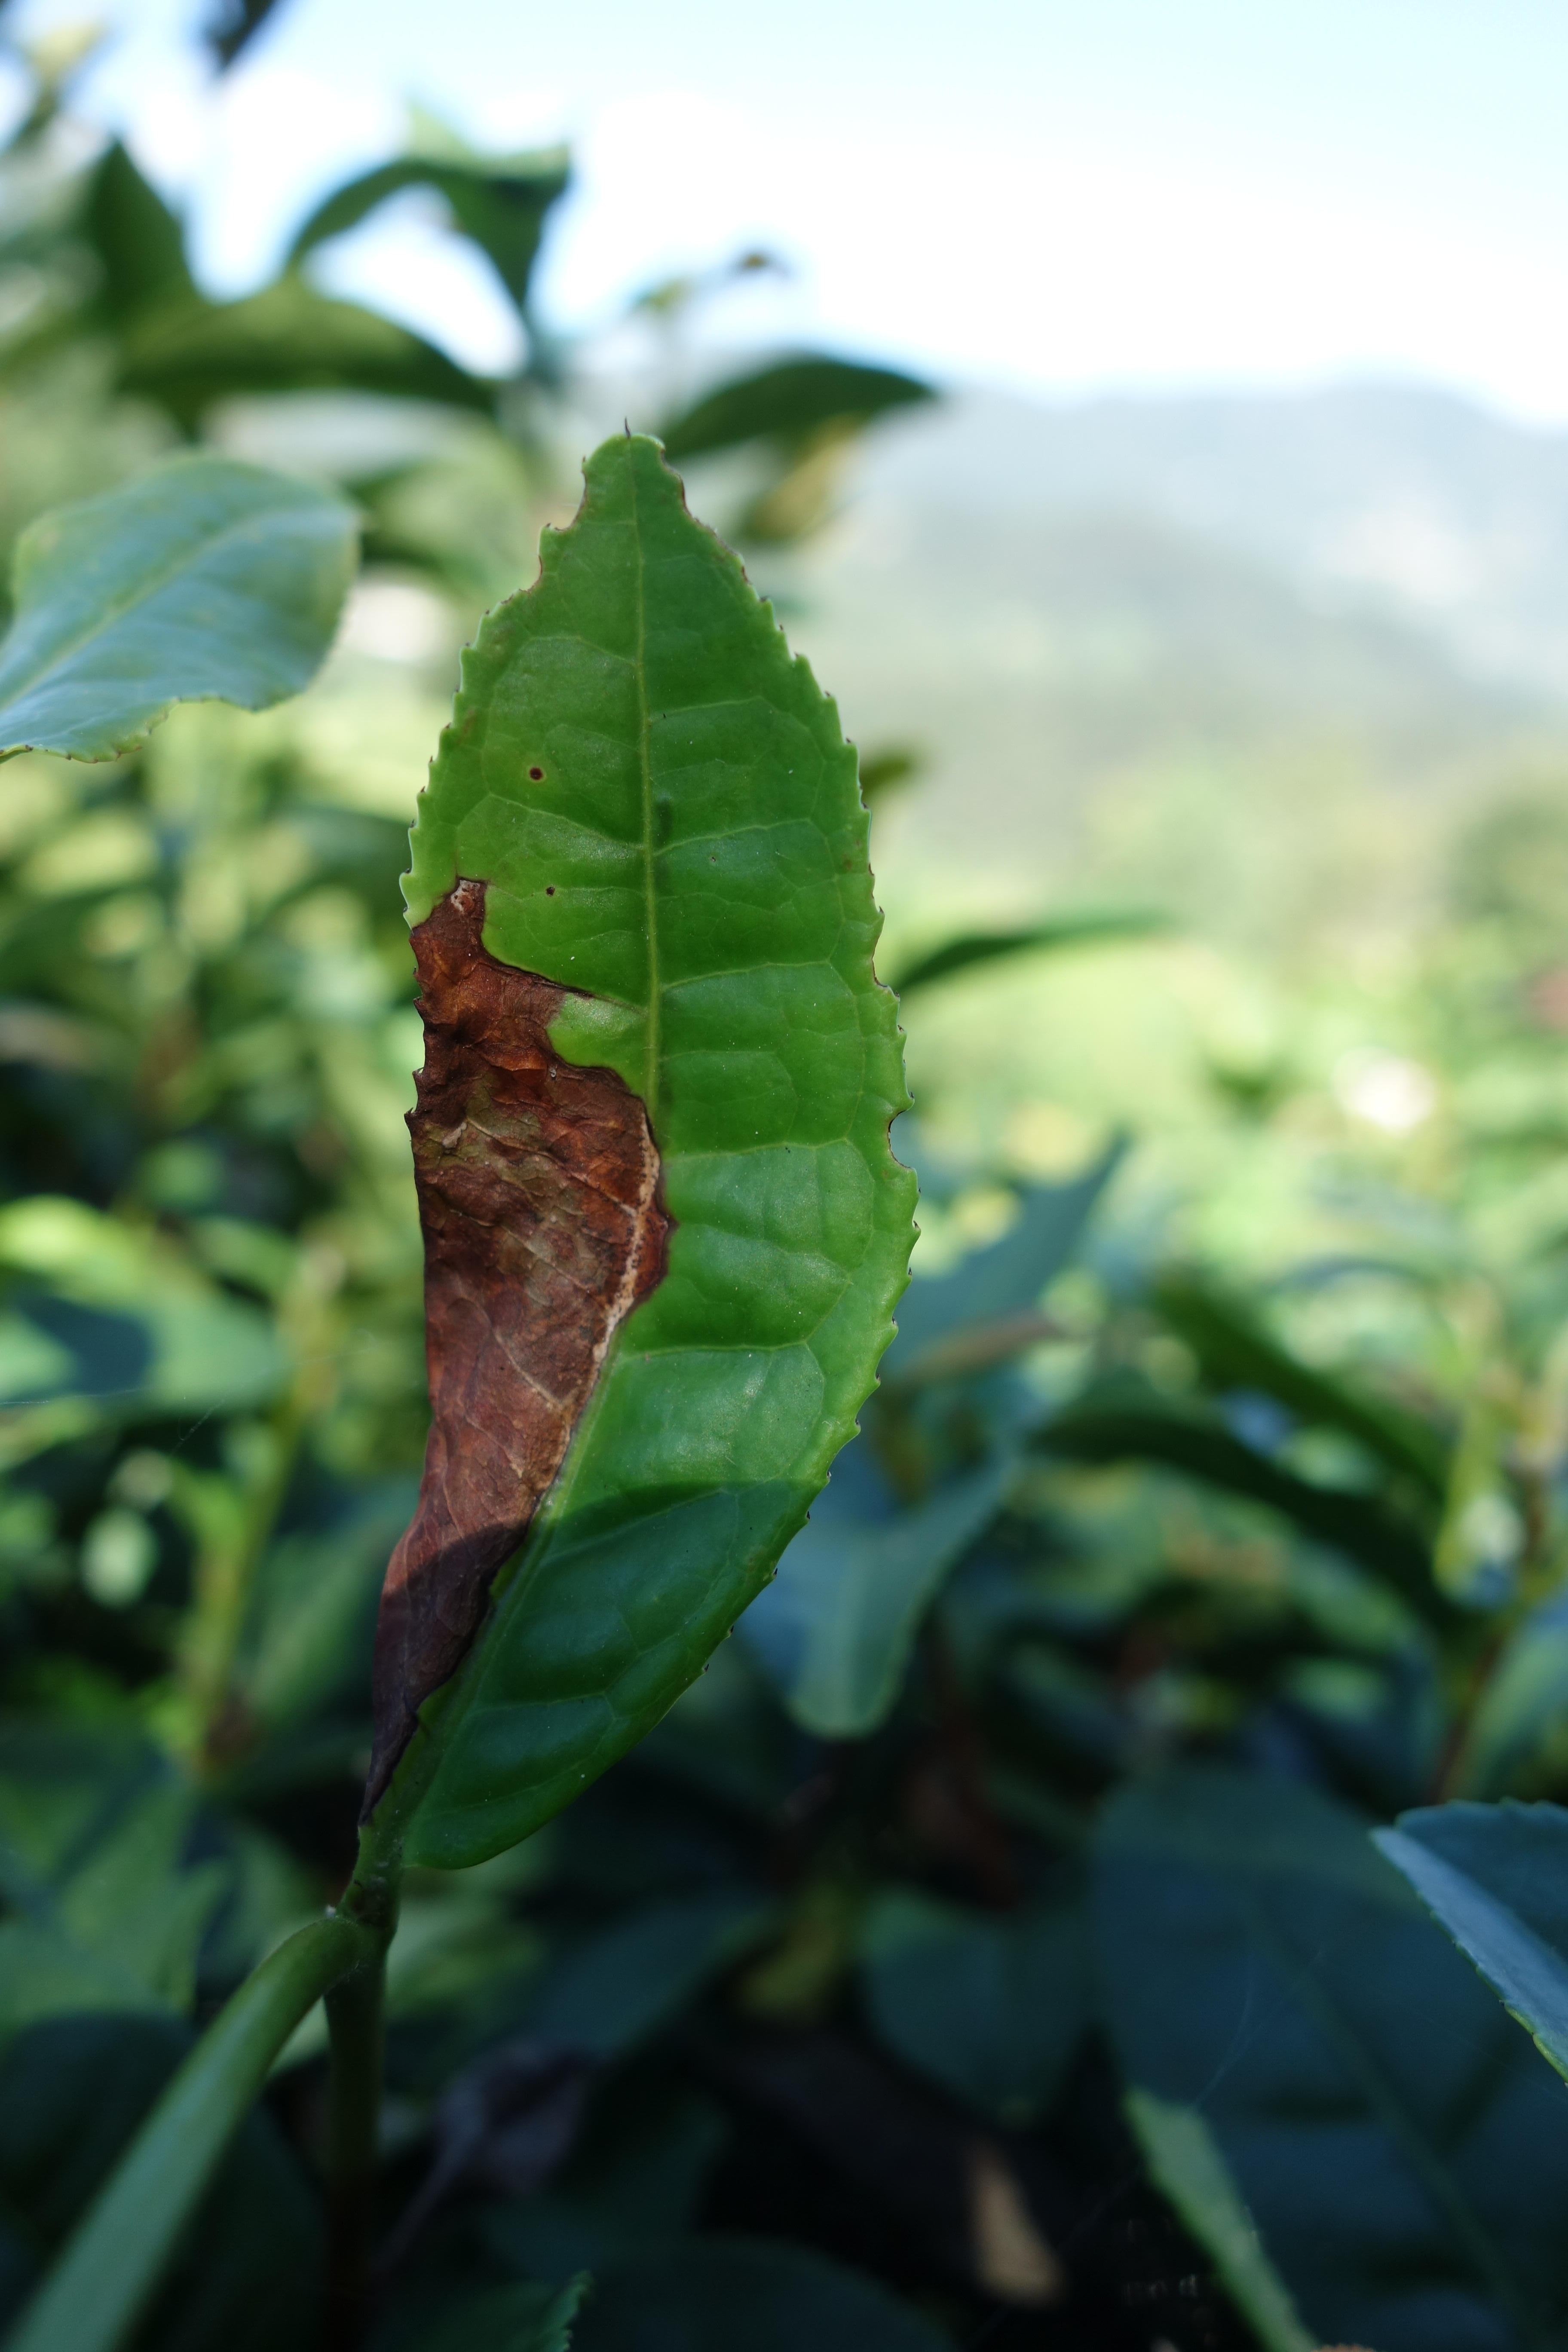tanju_high: (334, 432, 926, 1865)
